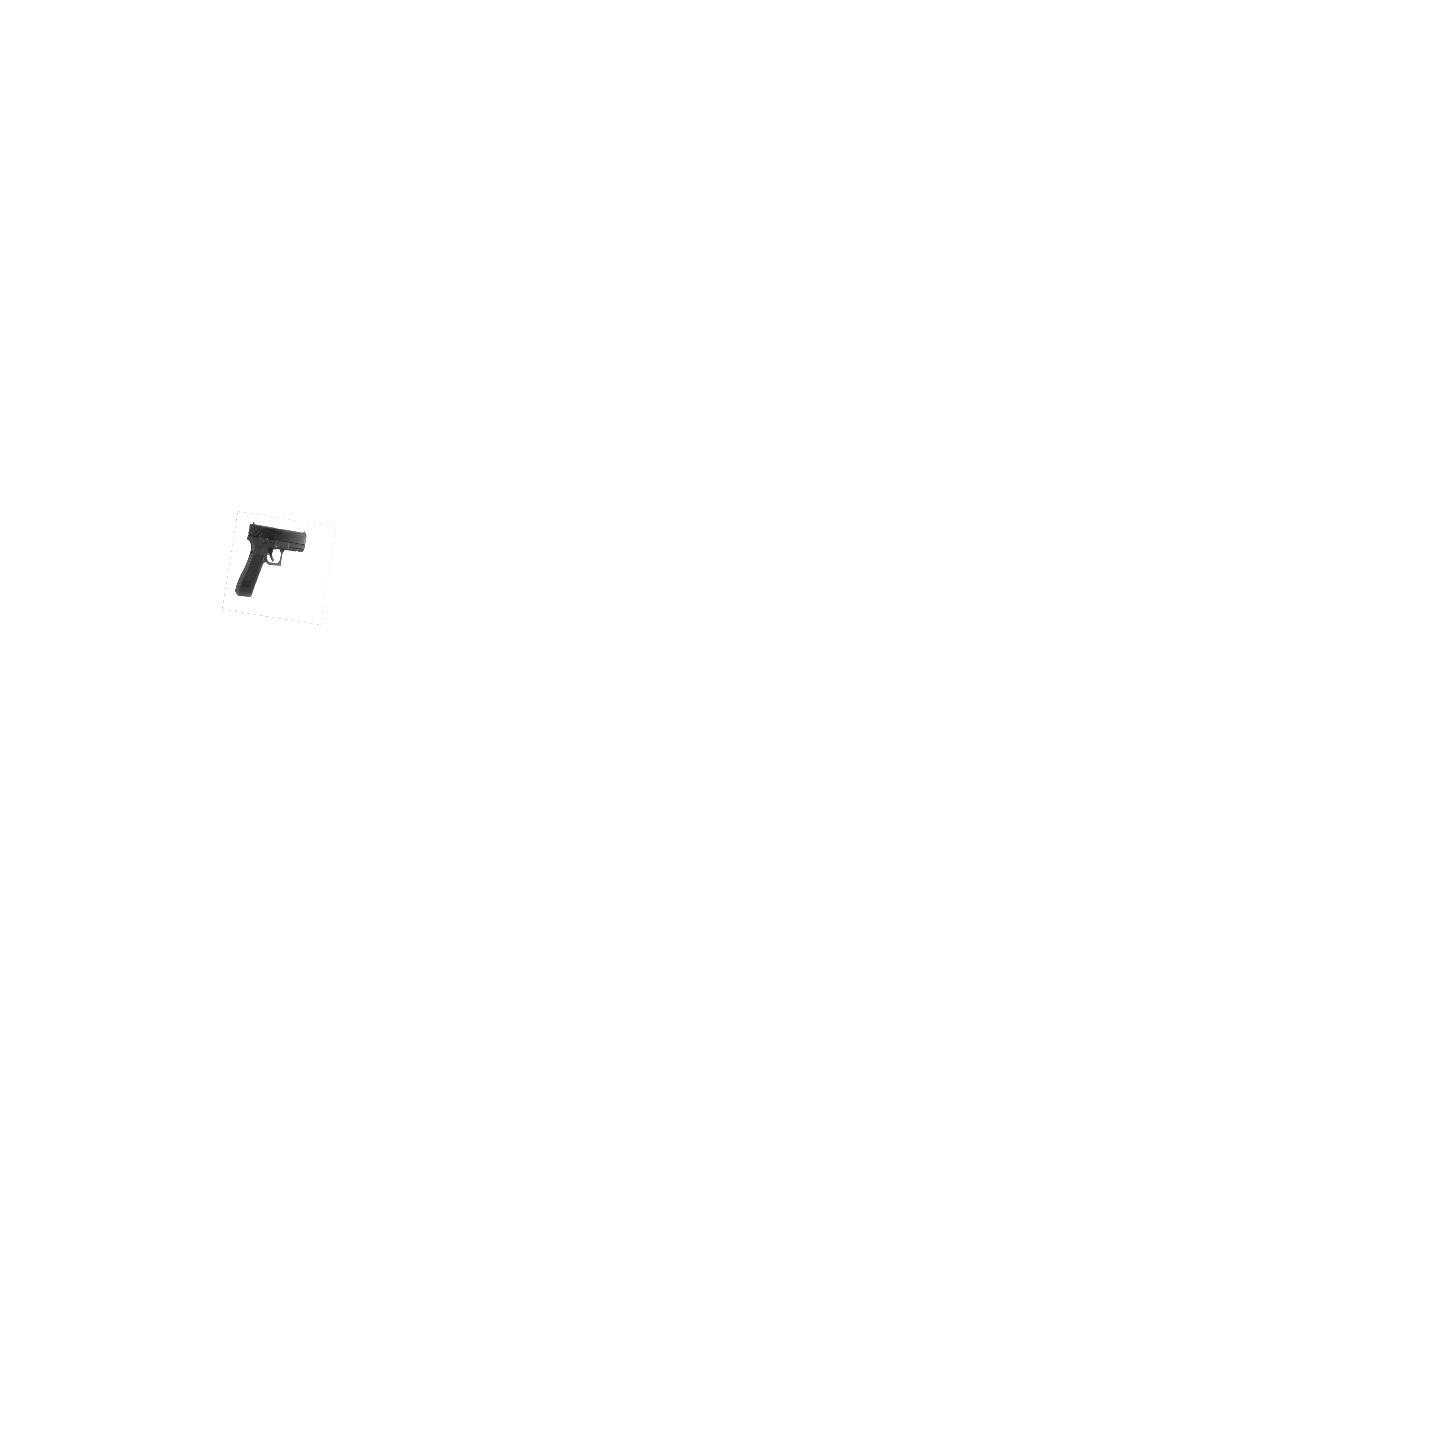gun: (234, 521, 307, 597)
